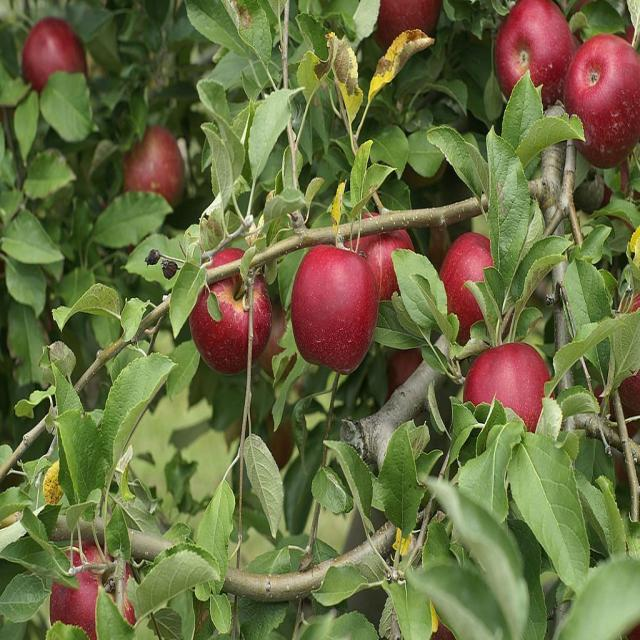Red Apple: (296, 239, 375, 371), (195, 250, 271, 367), (570, 34, 640, 157), (57, 539, 140, 640), (498, 6, 581, 100), (344, 205, 415, 306), (468, 344, 548, 426), (439, 233, 502, 334), (126, 130, 184, 206), (26, 19, 81, 87), (382, 1, 444, 42)
